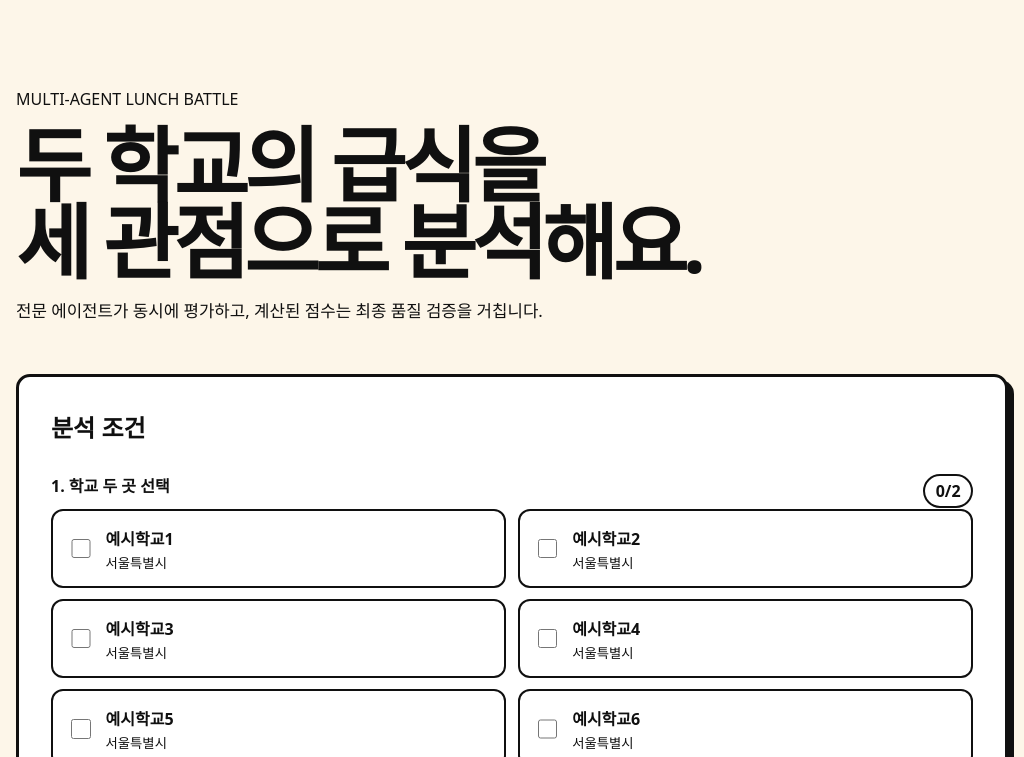
EvaluationAnalysis › selects exactly two schools, keeps the prompt editable, and renders scores
The image size is (1024, 757).
Click the text "예시학교1" at (140, 538), box 106,528 -> 174,550
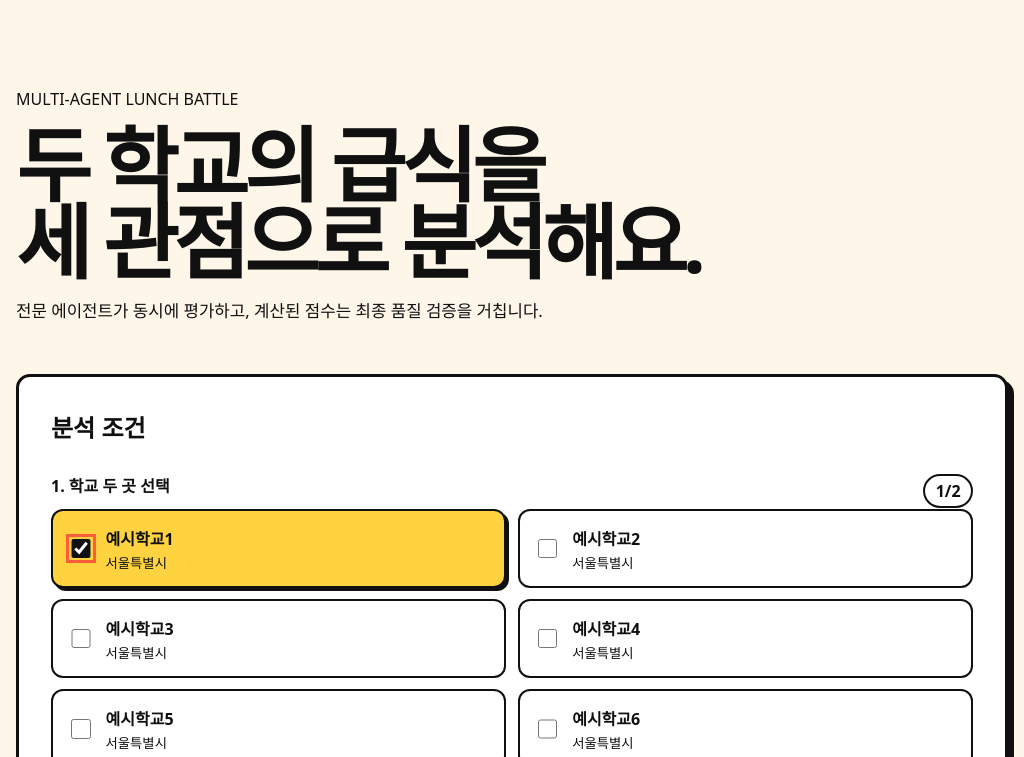
Click the text "예시학교2" at (606, 538), box 572,528 -> 640,550
(page scrolled)
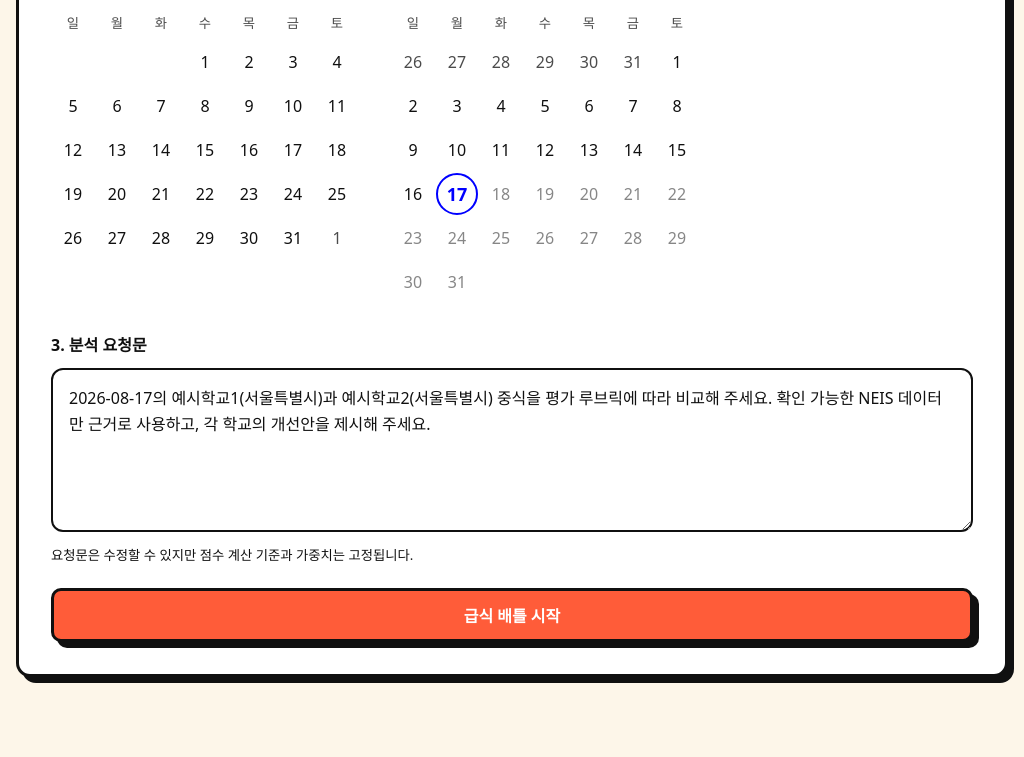
expect the text box labelled "3. 분석 요청문" holds "2026-08-17의 예시학교1(서울특별시)과 예시학교2(서울특별시) 중식을 평가 루브릭에 따라 비교해 주세요. 확인 가능한 NEIS 데이터만 근거로 사용하고, 각 학교의 개선안을 제시해 주세요.": met
Replace the text in the text box labelled "3. 분석 요청문" with "수정한 분석 요청" at (512, 450), box 51,368 -> 973,532
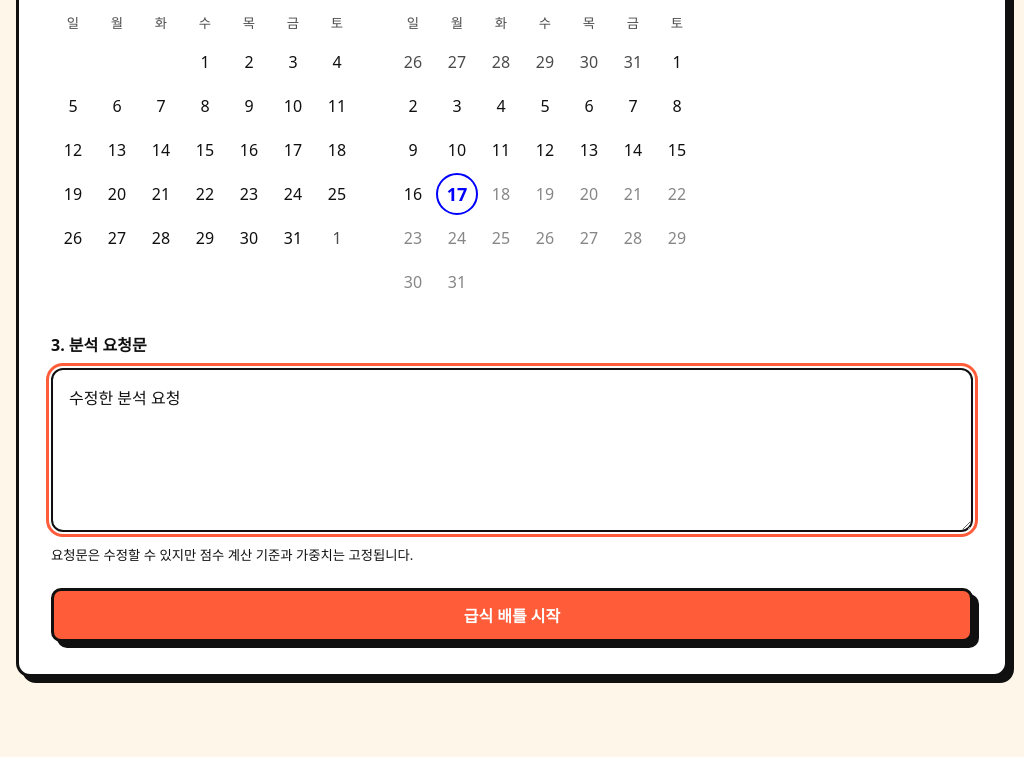
Click the button "급식 배틀 시작" at (512, 615), box 51,588 -> 973,642
(page scrolled)
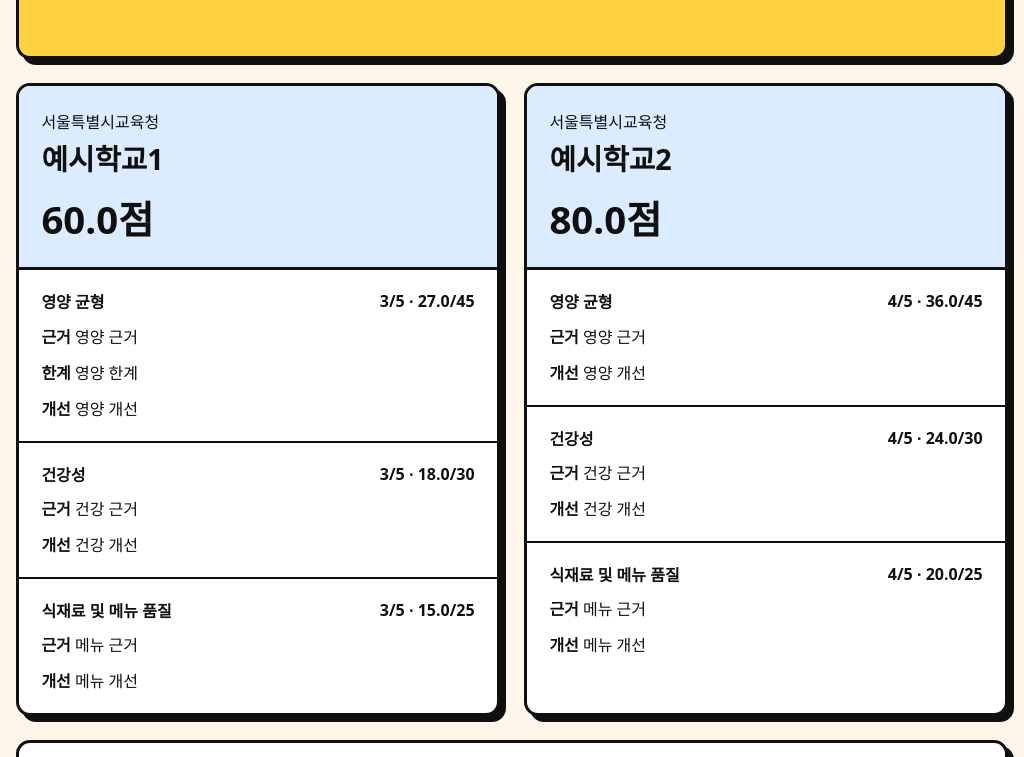
expect the text "60.0점" is shown: met, box 41,193 -> 154,245
expect the text "80.0점" is shown: met, box 549,193 -> 662,245
expect the text "영양 한계" is shown: met, box 75,362 -> 138,384
